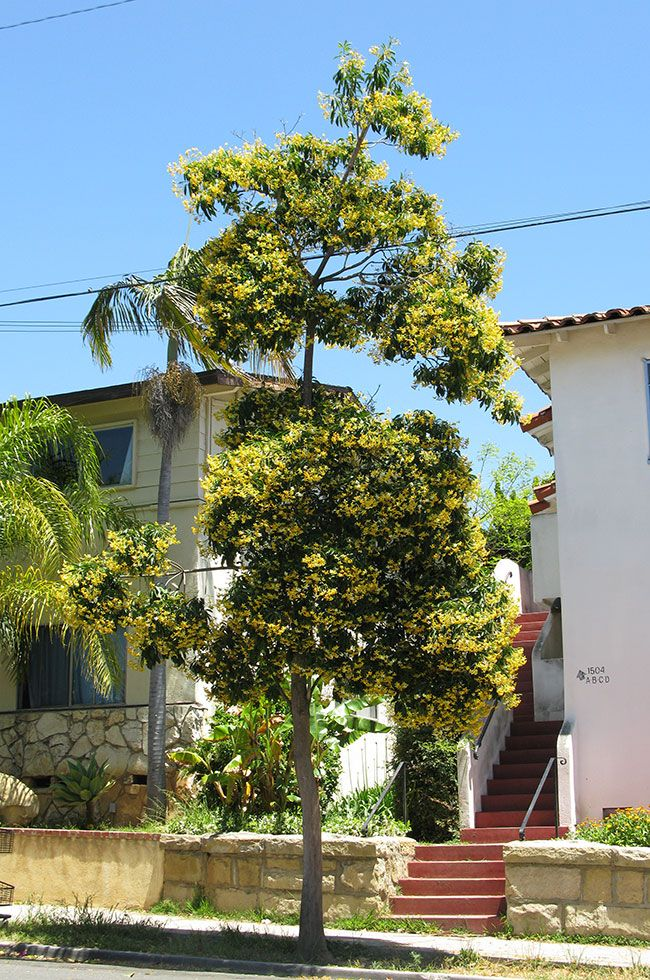tree: (56, 34, 526, 958)
